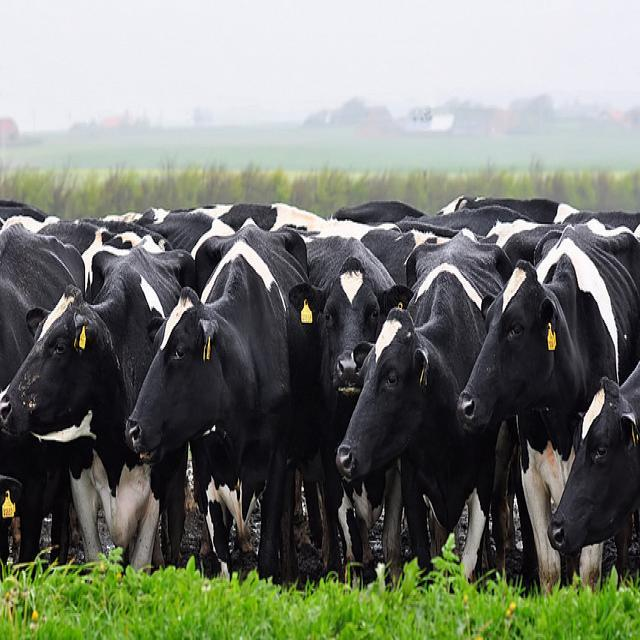cow: (0, 187, 577, 603), (462, 219, 639, 592), (0, 242, 196, 572), (335, 229, 514, 582), (133, 222, 307, 460), (301, 233, 412, 589), (548, 359, 639, 583), (0, 228, 82, 386), (132, 202, 234, 298), (358, 226, 452, 286), (437, 191, 597, 221), (277, 218, 399, 243), (325, 195, 428, 221), (597, 210, 639, 230)
